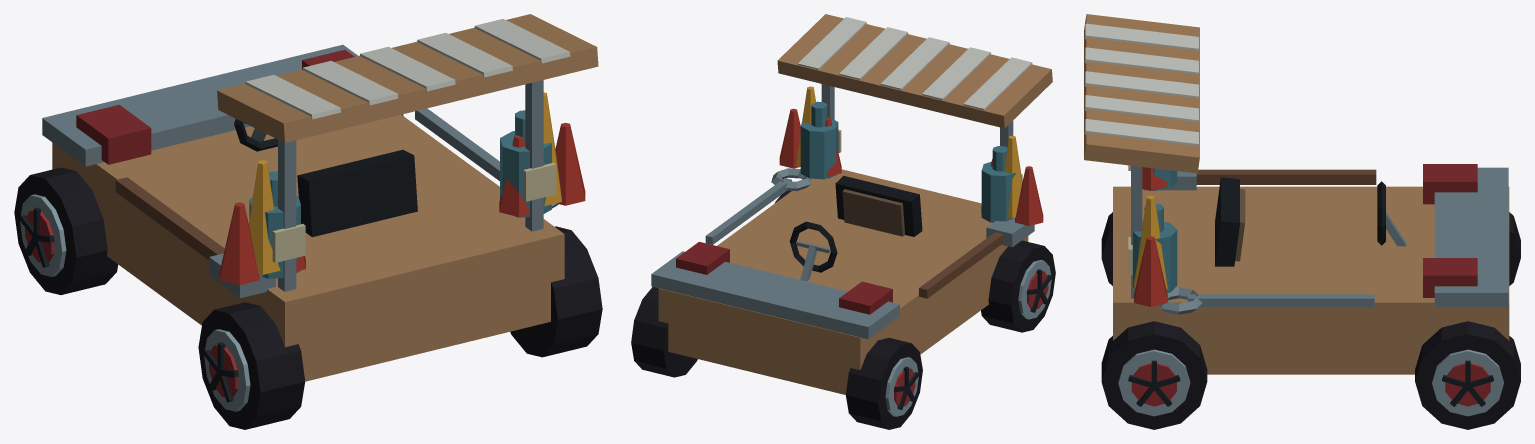
File: kart.glb
3 renders of one model, left to right at view 1: azimuth 30°, elevation 25°; view 2: azimuth 150°, elevation 25°; view 3: azimuth 270°, elevation 25°, orthographic. The views are drawn at different scales.
Visible parts, largest first — view 1: identity-food-cart-food-cart-counter-and-awning, wheel-rear-left, wheel-front-left, identity-food-cart-driver-cockpit, identity-food-cart-motif-fire, wheel-rear-right, identity-food-cart-motif-bottles, identity-food-cart-motif-tools; view 2: identity-food-cart-food-cart-counter-and-awning, wheel-front-left, identity-food-cart-driver-cockpit, wheel-rear-left, identity-food-cart-motif-bottles, identity-food-cart-motif-tools, identity-food-cart-motif-fire, wheel-front-right; view 3: identity-food-cart-food-cart-counter-and-awning, wheel-rear-right, wheel-front-right, identity-food-cart-motif-tools, identity-food-cart-driver-cockpit, identity-food-cart-motif-fire, identity-food-cart-motif-bottles, wheel-front-left, wheel-rear-left.
Boxes of the visible parts, x1,y1,x2,y2 form: identity-food-cart-food-cart-counter-and-awning: (42, 14, 598, 381); wheel-rear-left: (198, 302, 305, 429); wheel-front-left: (14, 167, 118, 294); identity-food-cart-driver-cockpit: (234, 119, 417, 237); identity-food-cart-motif-fire: (220, 92, 585, 285); wheel-rear-right: (510, 226, 602, 357); identity-food-cart-motif-bottles: (249, 110, 556, 278); identity-food-cart-motif-tools: (115, 108, 558, 298); identity-food-cart-food-cart-counter-and-awning: (651, 14, 1052, 394); wheel-front-left: (846, 338, 922, 429); identity-food-cart-driver-cockpit: (789, 176, 922, 281); wheel-rear-left: (981, 240, 1055, 332); identity-food-cart-motif-bottles: (800, 101, 1022, 222); identity-food-cart-motif-tools: (705, 168, 1034, 298); identity-food-cart-motif-fire: (779, 86, 1043, 225); wheel-front-right: (631, 287, 697, 377); identity-food-cart-food-cart-counter-and-awning: (1084, 14, 1509, 374); wheel-rear-right: (1101, 321, 1207, 429); wheel-front-right: (1415, 321, 1520, 429); identity-food-cart-motif-tools: (1143, 169, 1376, 314); identity-food-cart-driver-cockpit: (1215, 177, 1406, 266); identity-food-cart-motif-fire: (1134, 167, 1167, 306); identity-food-cart-motif-bottles: (1128, 165, 1177, 292); wheel-front-left: (1509, 212, 1520, 285); wheel-rear-left: (1101, 212, 1112, 285).
Size of the model in its own units: 2.04 by 1.76 by 2.48.
